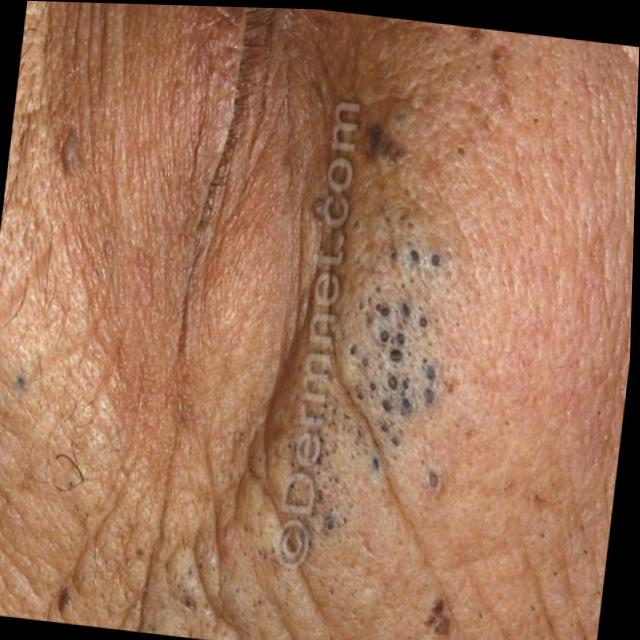Rosacea: (303, 216, 476, 503)
